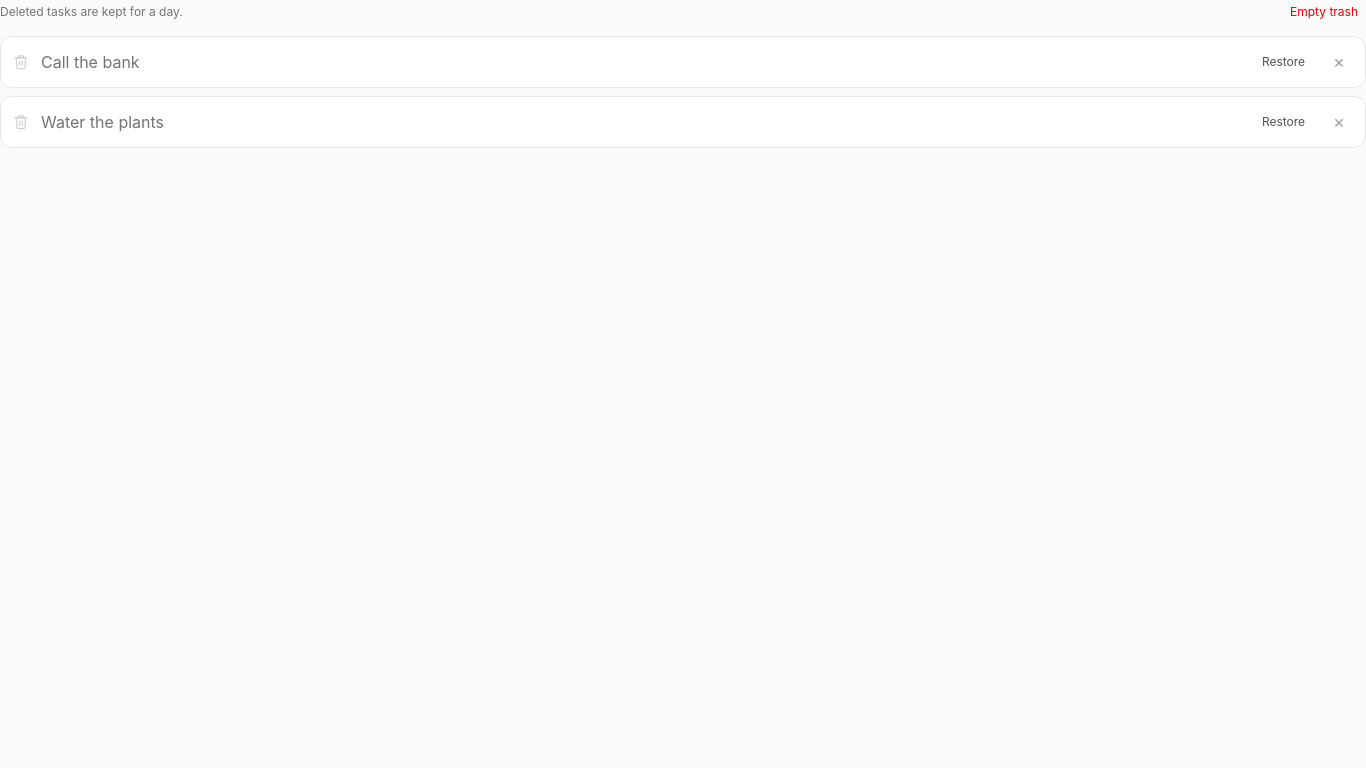
emptying the trash › asks first, in a sheet, saying how many go for good (TRASH-10)
Click the button "Empty trash" at (1324, 12), box x1=1282 y1=0 x2=1365 y2=24
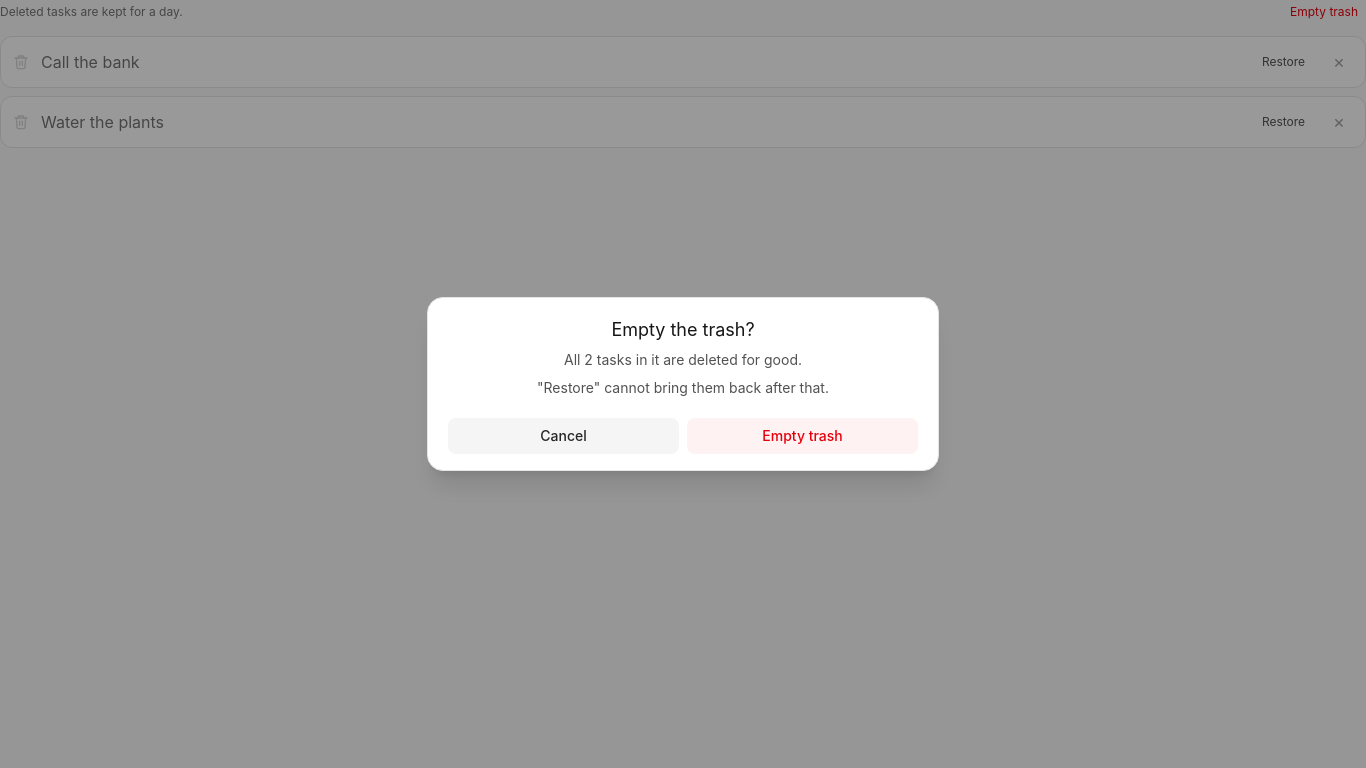
The sheet's own button, not the one on the page behind it.
Click the button "Empty trash" at (802, 436), box x1=687 y1=418 x2=918 y2=454
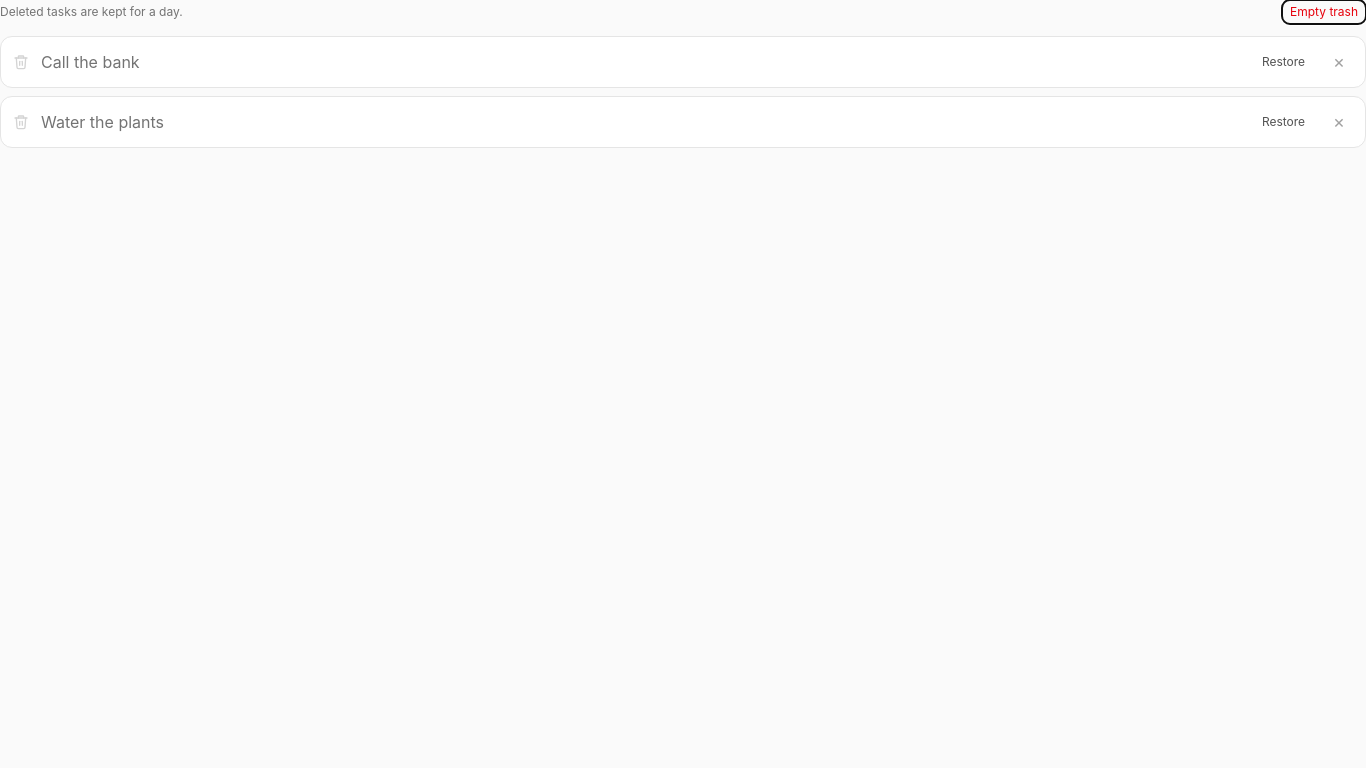
Expected: the dialog is gone
